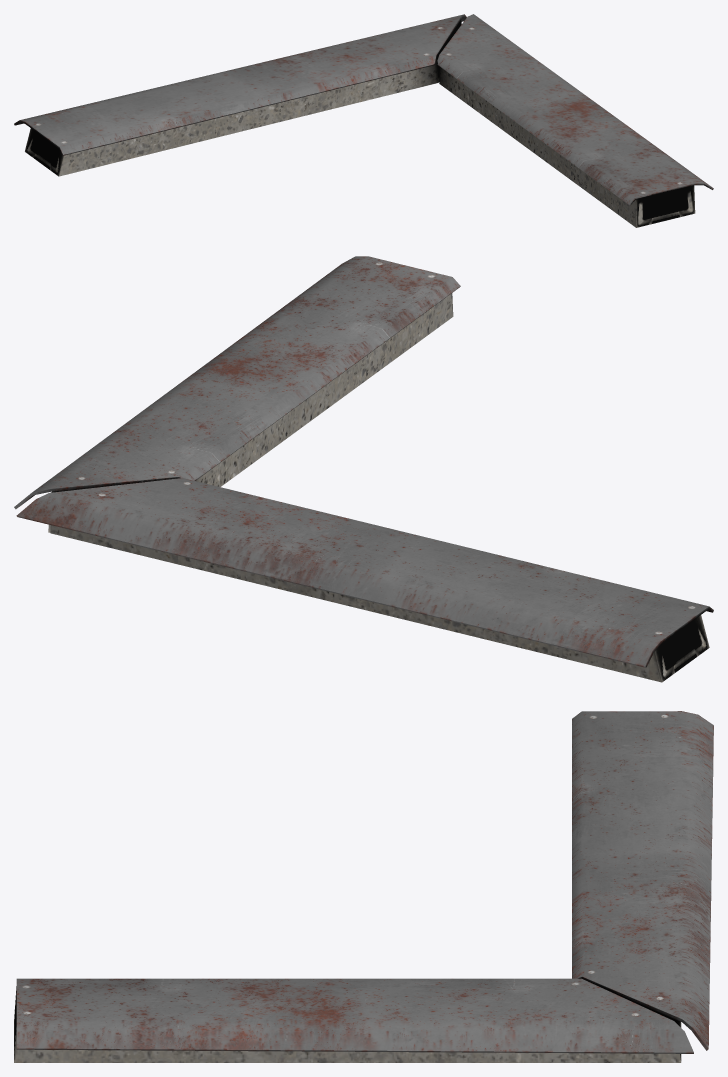
The model's file is SM_RoofBordersTopCorner02.FBX.
3 renders of one model, top to bottom at view 1: azimuth 30°, elevation 25°; view 2: azimuth 150°, elevation 25°; view 3: azimuth 270°, elevation 25°, orthographic. The views are drawn at different scales.
Visible parts, largest first — view 1: SM_RoofBordersTopCorner02_LOD0; view 2: SM_RoofBordersTopCorner02_LOD0; view 3: SM_RoofBordersTopCorner02_LOD0.
Boxes of the visible parts, x1=… form: SM_RoofBordersTopCorner02_LOD0: x1=14, y1=14, x2=713, y2=227; SM_RoofBordersTopCorner02_LOD0: x1=14, y1=256, x2=713, y2=682; SM_RoofBordersTopCorner02_LOD0: x1=14, y1=711, x2=713, y2=1062.
Size of the model in its own units: 350 by 320 by 21.39.
